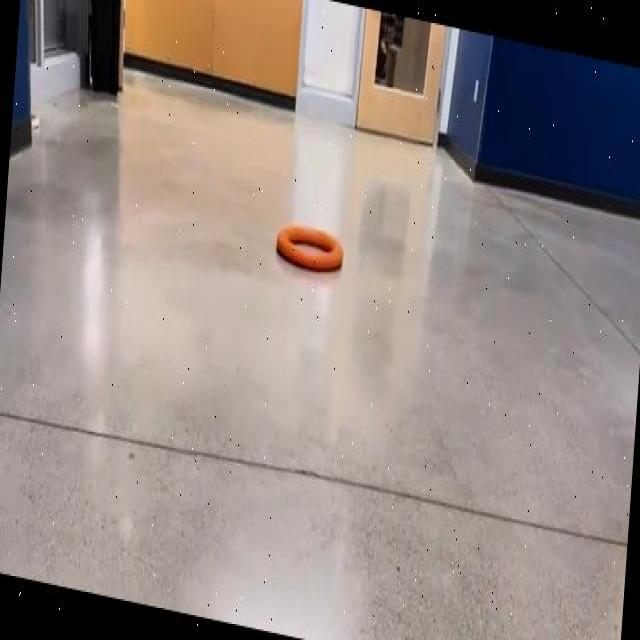note: (276, 223, 343, 270)
